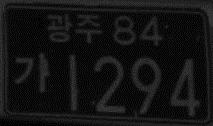1: (67, 52, 79, 113)
2: (93, 55, 126, 114)
4: (169, 57, 201, 118), (138, 15, 162, 47)
8: (112, 14, 135, 47)
9: (131, 56, 162, 116)
가: (14, 52, 51, 93)
광주_O: (46, 12, 102, 45)
